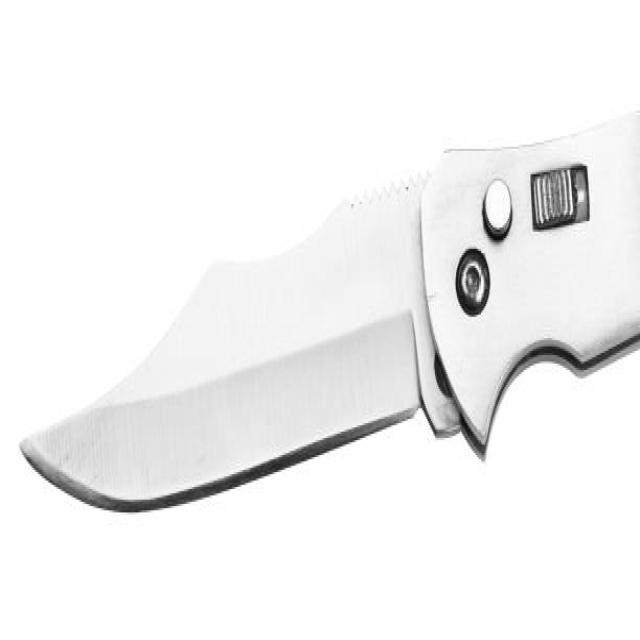knife: (16, 119, 631, 529)
